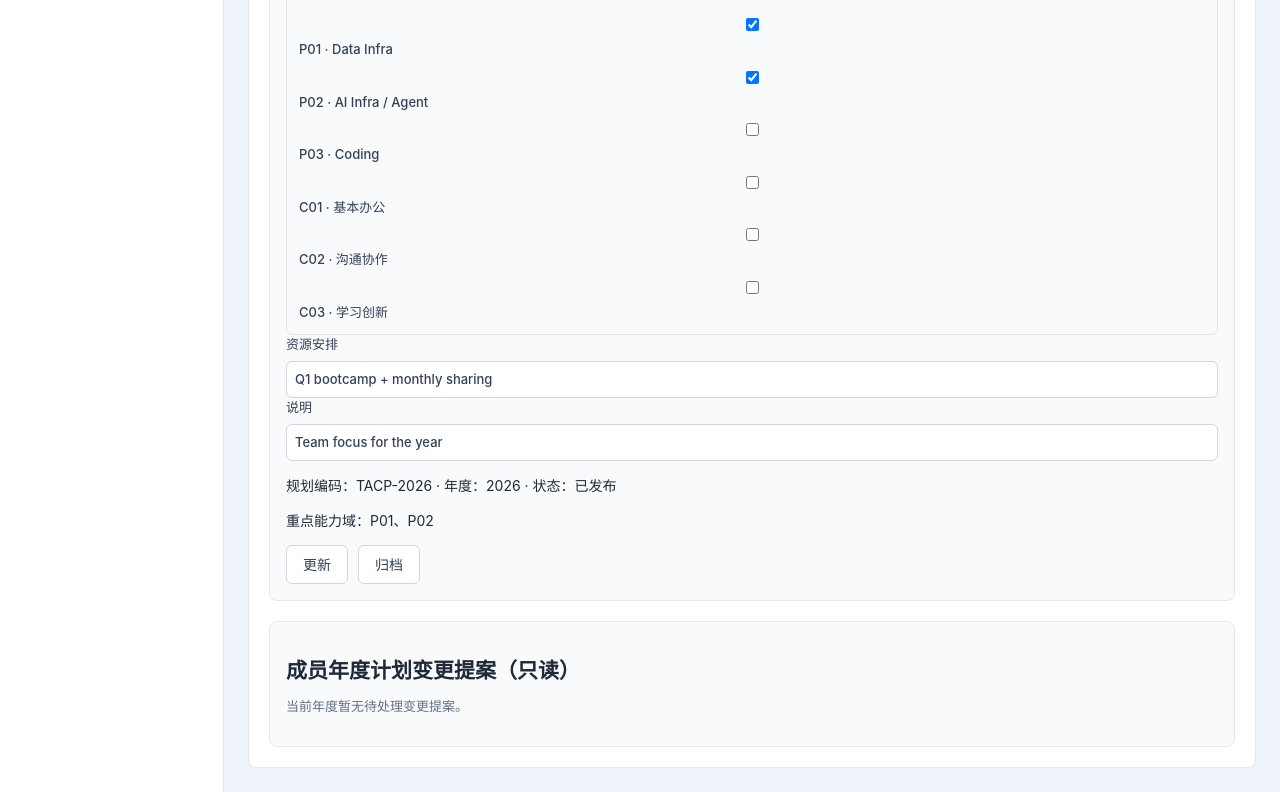
TeamAnnualPlanPage › archives a published plan and becomes read-only
(page scrolled)
Click the button "归档".
click(389, 564)  # box [358,545,420,584]
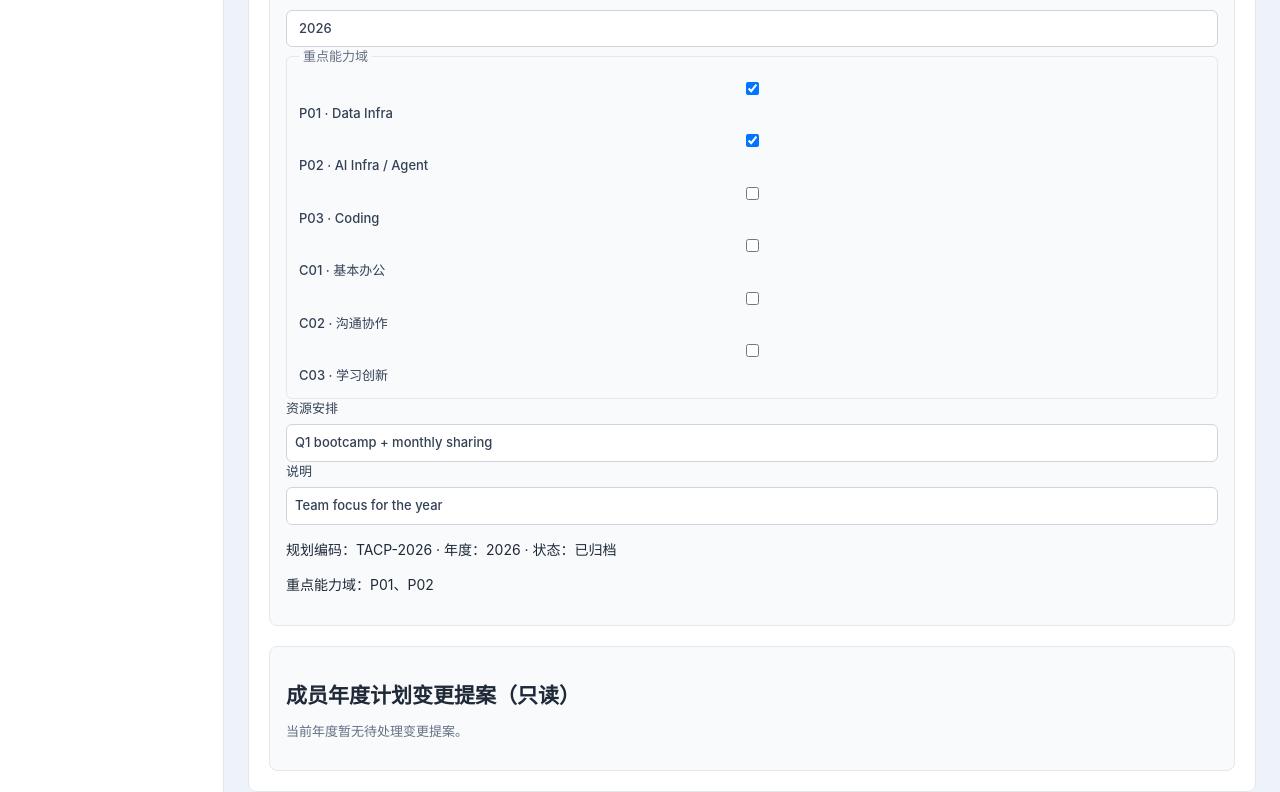
expect the text "规划编码：TACP-2026 · 年度：2026 · 状态：已归档" is shown: met, box [286,540,617,558]
expect the button "更新" is gone: met
